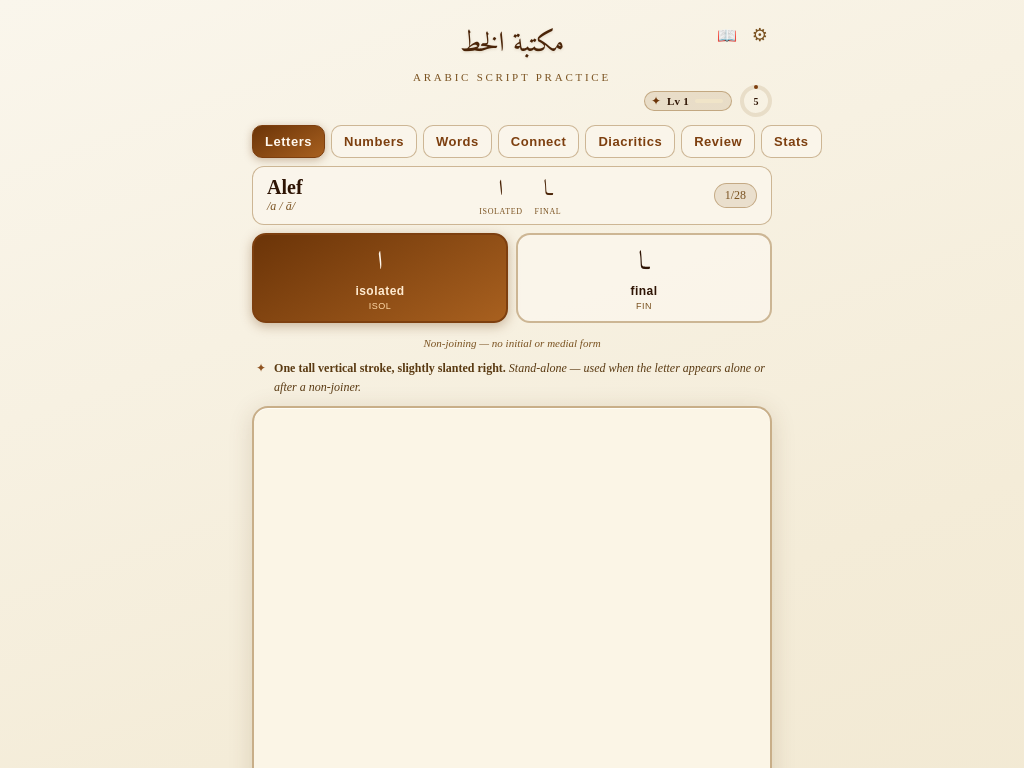
Test: PracticeView connect mode (ROADMAP #9) › advances to the next connection on the Next button
Click the tab "Connect".
click(539, 142)  # box [498,125,579,158]
(page scrolled)
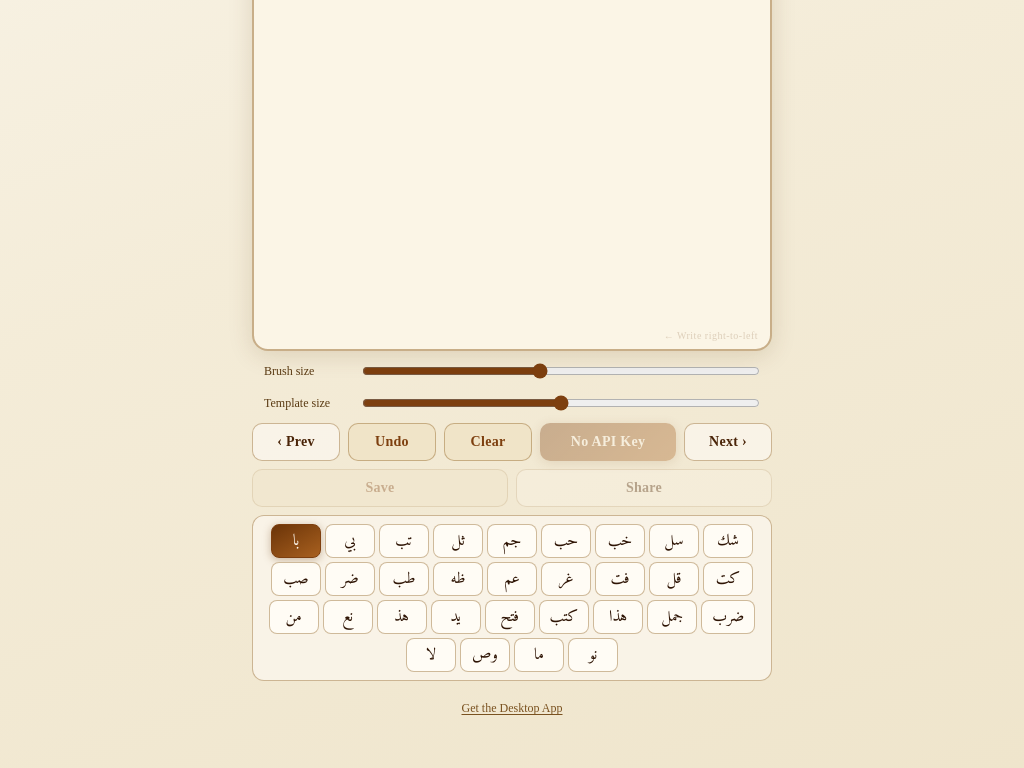
Click the button "Next ›".
click(728, 442)  # box [684,423,772,461]
(page scrolled)
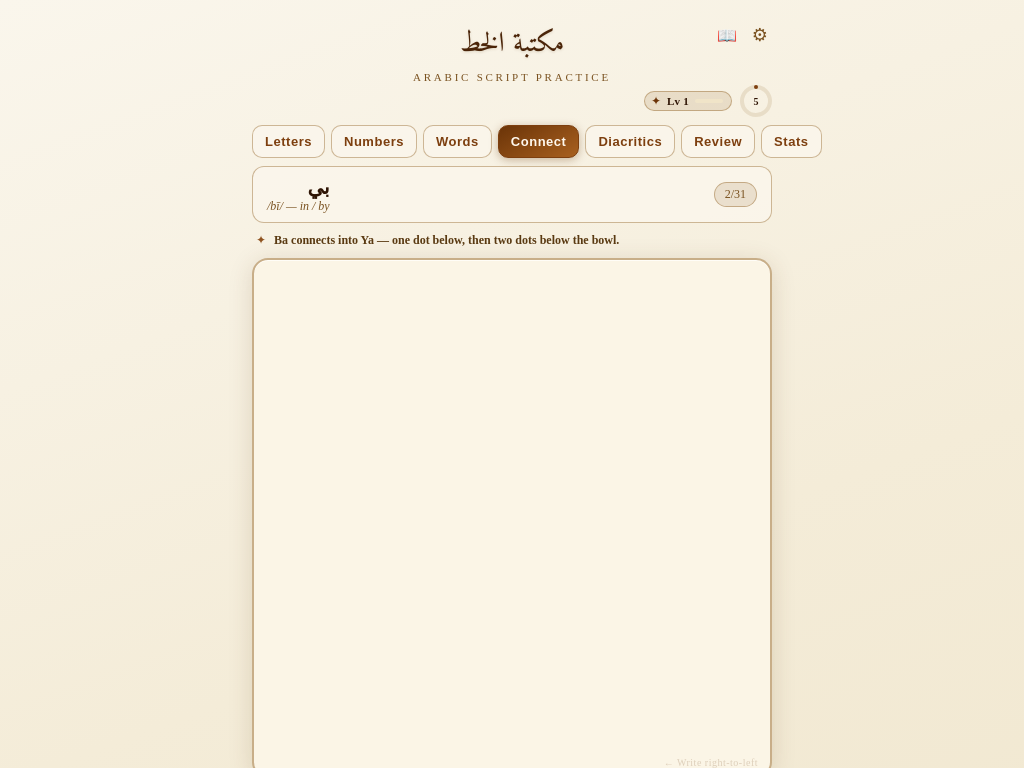
expect the text "بي" is shown: met, box [308,176,330,198]
